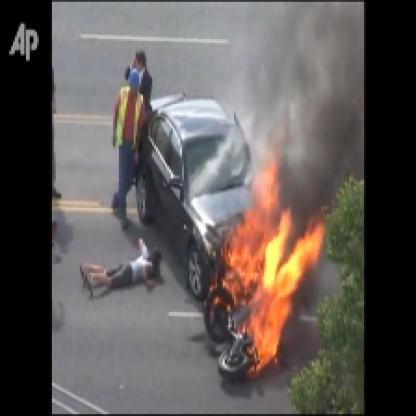Fire: (216, 154, 318, 377)
Smoke: (251, 3, 362, 162)
